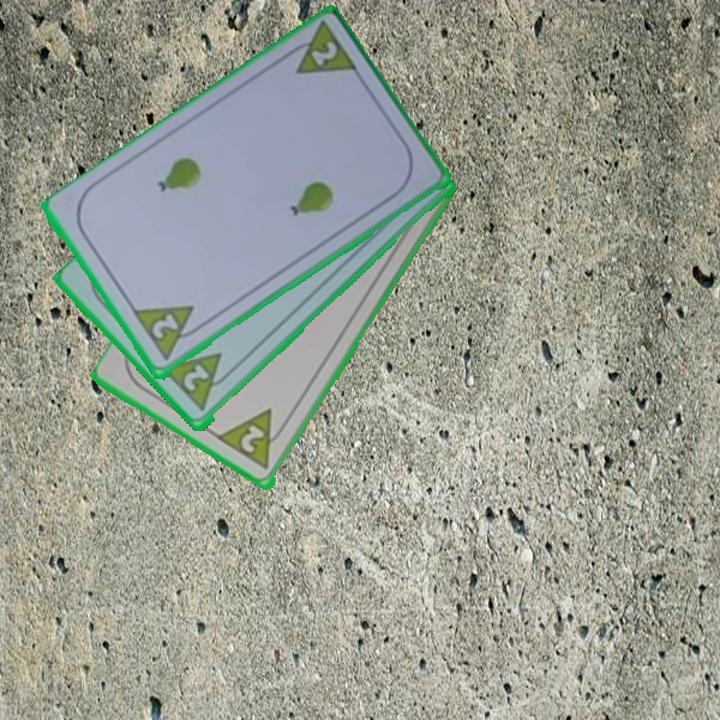2p: (160, 349, 238, 416), (215, 406, 292, 473), (279, 19, 362, 78), (147, 310, 181, 343)
